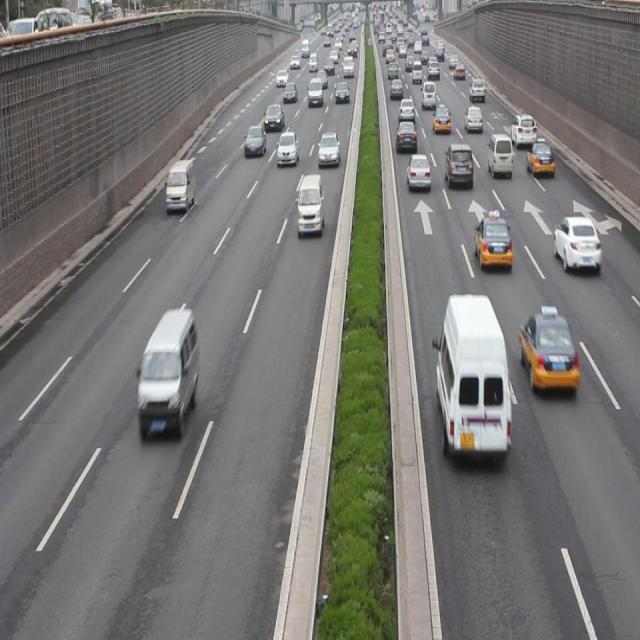car: (520, 301, 578, 394), (552, 214, 598, 273), (473, 208, 510, 270), (444, 144, 472, 183), (524, 142, 553, 177), (406, 153, 428, 193), (317, 130, 341, 166), (509, 114, 534, 148), (275, 130, 299, 163), (244, 124, 265, 156), (395, 121, 415, 152), (432, 102, 451, 130), (464, 106, 482, 131)
truck: (433, 289, 510, 459), (138, 309, 198, 436), (296, 175, 322, 238), (167, 156, 193, 214), (486, 135, 514, 178)
